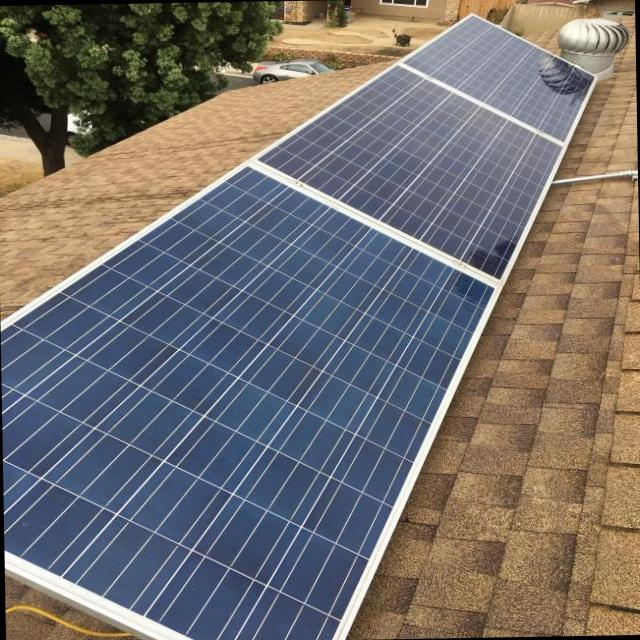no faulty: (0, 173, 489, 640), (270, 68, 559, 273), (411, 16, 593, 135)
